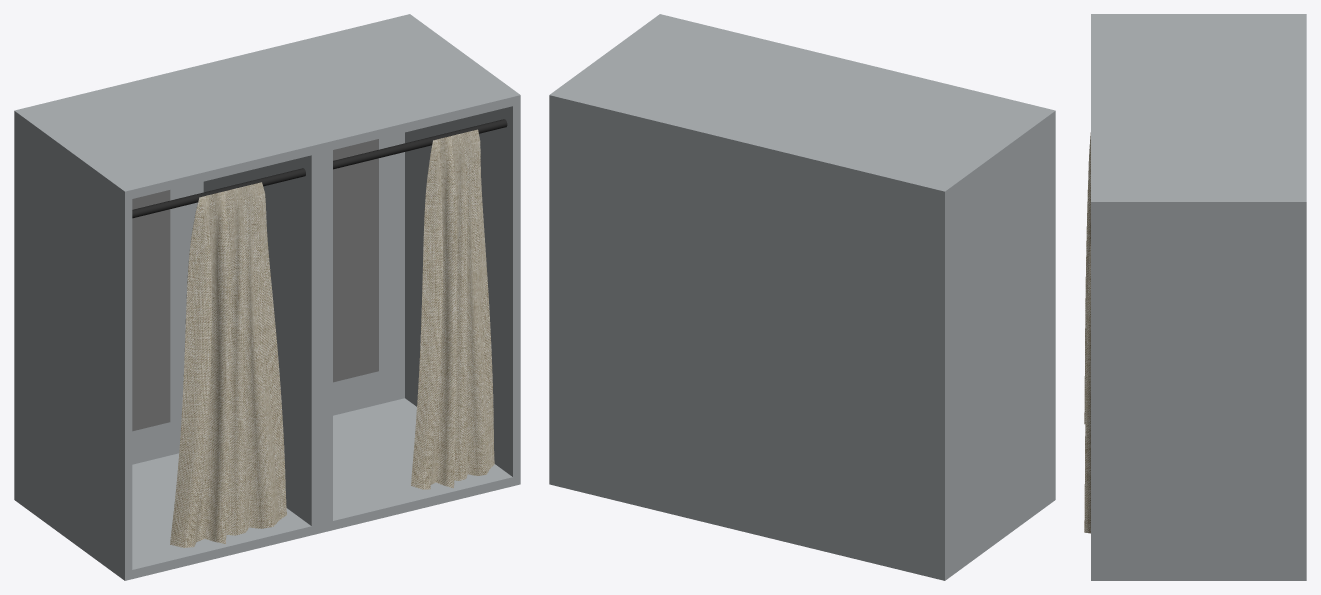
File: Fitting rooms.fbx
3 views of the same model, side by side, from view 1: azimuth 30°, elevation 25°; view 2: azimuth 150°, elevation 25°; view 3: azimuth 270°, elevation 25° (orthographic). The views are drawn at different scales.
Parts seen in each view (by area): view 1: fitting rooms, curtain, curtain 2; view 2: fitting rooms; view 3: fitting rooms, curtain 2, curtain.
Boxes of the visible parts, x1,y1,x2,y2 form: fitting rooms: (14,14,520,580); curtain: (170,182,286,547); curtain 2: (411,129,494,489); fitting rooms: (549,14,1055,580); fitting rooms: (1091,14,1306,580); curtain 2: (1084,240,1090,533); curtain: (1084,132,1090,424).
Size of the model in its own units: 266 by 250 by 133.
4 materials, 1 textured.
